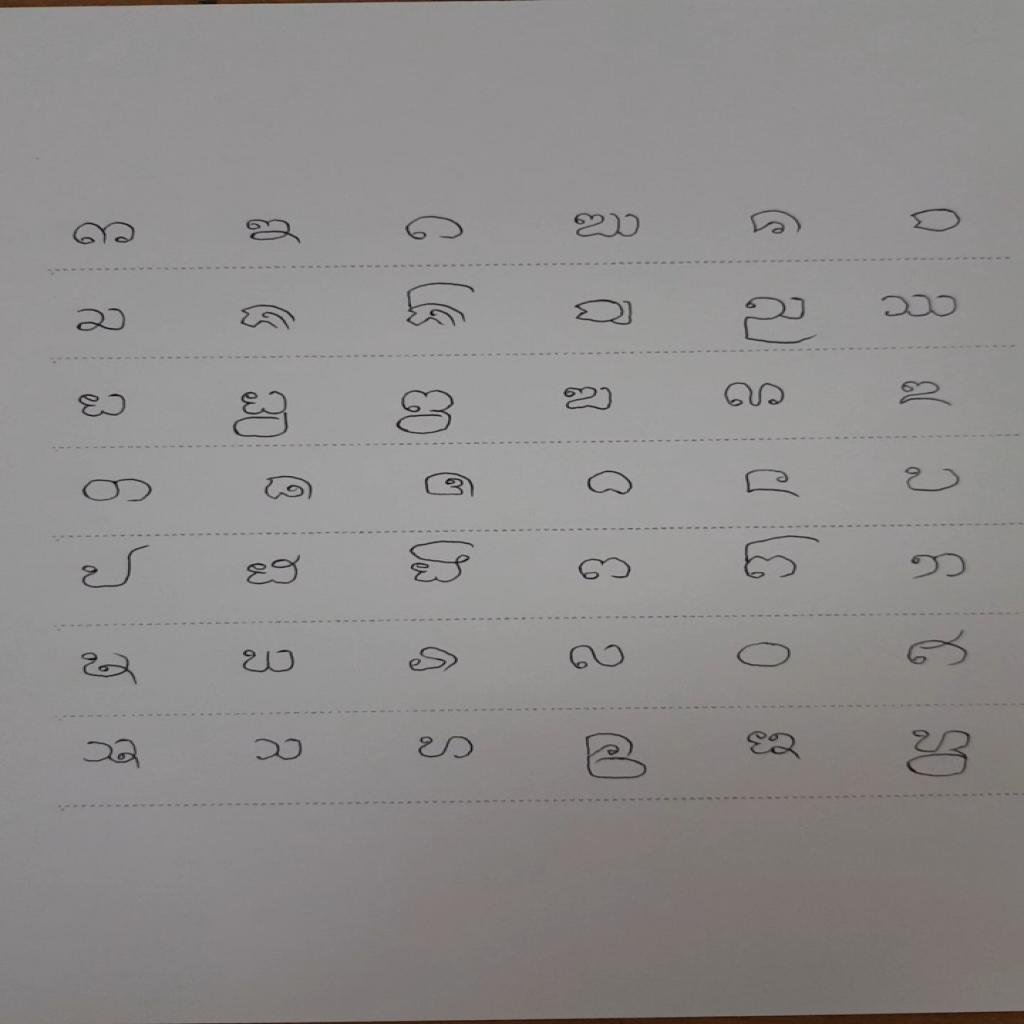LN001: (69, 220, 141, 250)
LN002: (241, 216, 307, 248)
LN003: (400, 213, 470, 245)
LN004: (568, 209, 646, 243)
LN005: (745, 208, 808, 239)
LN006: (905, 205, 968, 237)
LN007: (71, 306, 131, 336)
LN008: (235, 302, 301, 336)
LN009: (399, 280, 479, 332)
LN010: (570, 297, 638, 330)
LN011: (738, 292, 820, 348)
LN012: (877, 292, 964, 323)
LN013: (72, 390, 134, 424)
LN014: (228, 388, 295, 443)
LN015: (392, 387, 463, 439)
LN016: (557, 384, 620, 416)
LN017: (718, 380, 792, 412)
LN018: (894, 378, 957, 411)
LN019: (79, 477, 158, 507)
LN020: (259, 473, 319, 505)
LN021: (418, 469, 481, 501)
LN022: (583, 469, 640, 500)
LN023: (740, 466, 805, 501)
LN024: (899, 463, 966, 497)
LN025: (76, 543, 152, 593)
LN026: (242, 553, 305, 589)
LN027: (403, 539, 478, 588)
LN028: (571, 555, 635, 585)
LN029: (739, 533, 824, 583)
LN030: (905, 551, 972, 583)
LN031: (75, 649, 142, 689)
LN032: (233, 643, 304, 679)
LN033: (398, 643, 468, 679)
LN034: (558, 639, 634, 677)
LN035: (728, 638, 800, 674)
LN036: (898, 626, 978, 672)
LN037: (76, 734, 153, 776)
LN038: (246, 733, 312, 768)
LN039: (408, 731, 485, 765)
LN040: (573, 727, 657, 785)
LN041: (733, 724, 813, 766)
LN042: (898, 725, 981, 783)
